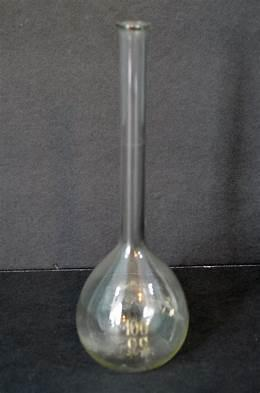Volumetric flask: (60, 9, 195, 369)
